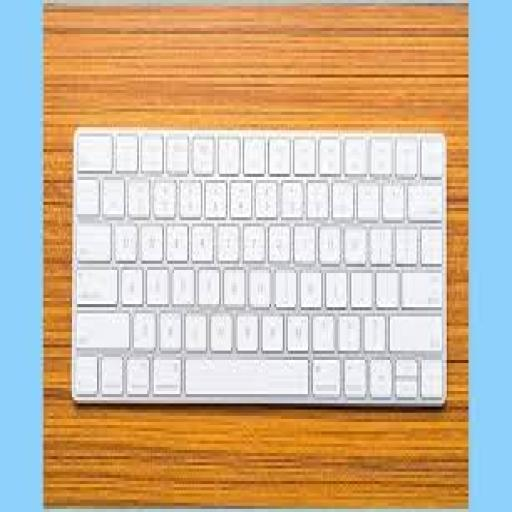keyboard: (73, 127, 453, 426)
